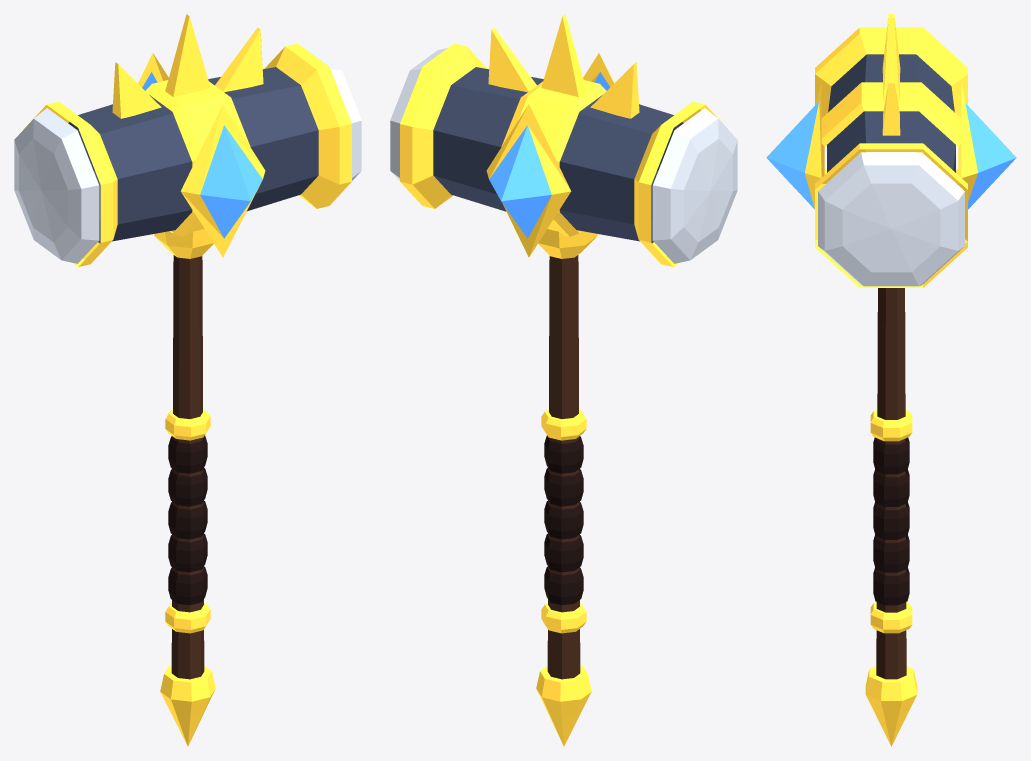
File: sky_hammer_blue.glb
The picture shows the model from 3 angles, left to right: view 1: azimuth 30°, elevation 25°; view 2: azimuth 150°, elevation 25°; view 3: azimuth 270°, elevation 25°; orthographic projection.
Visible parts, largest first — view 1: skybreaker; view 2: skybreaker; view 3: skybreaker.
Part boxes in pixels (<box>): skybreaker: <box>14,14,361,746</box>; skybreaker: <box>390,14,737,746</box>; skybreaker: <box>766,14,1016,746</box>.
Bounding box in the file's own units: 0.7 × 1.67 × 0.52.
